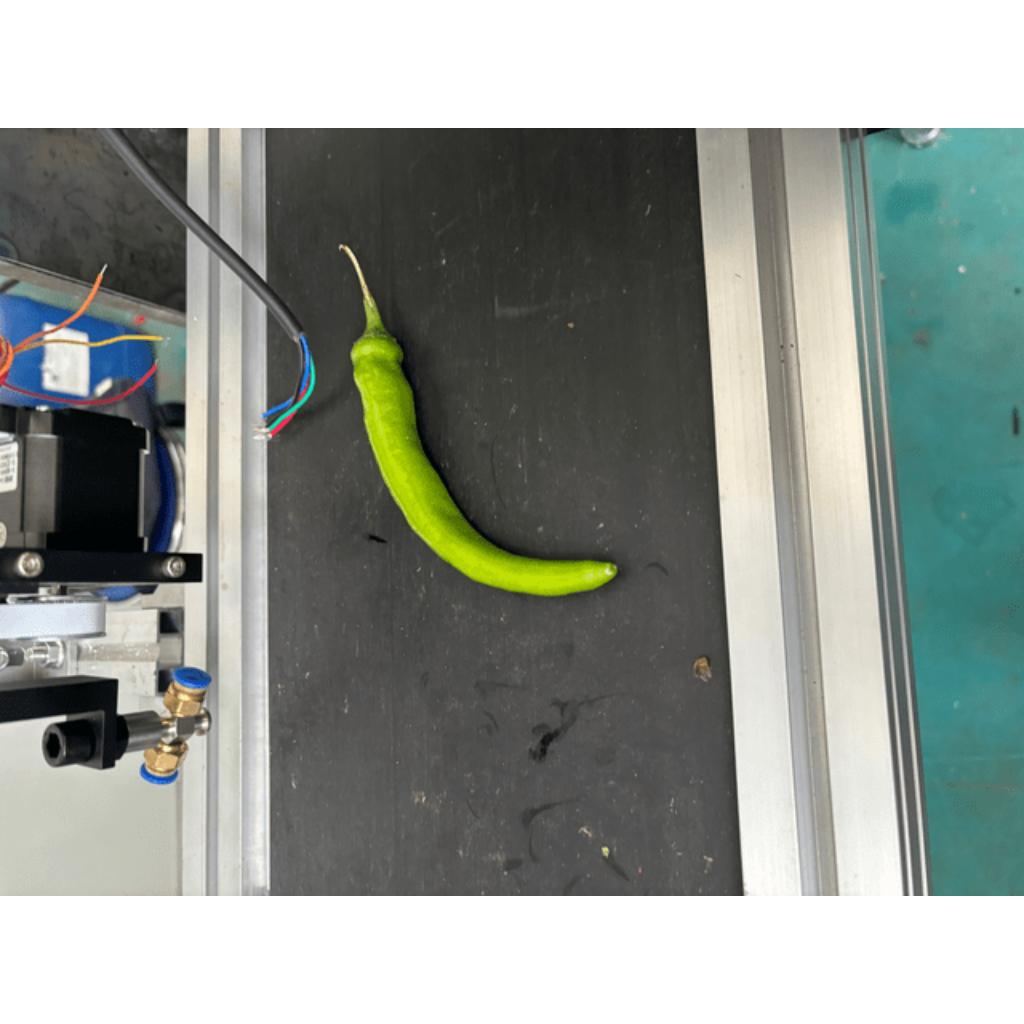chili: (345, 326, 624, 601)
